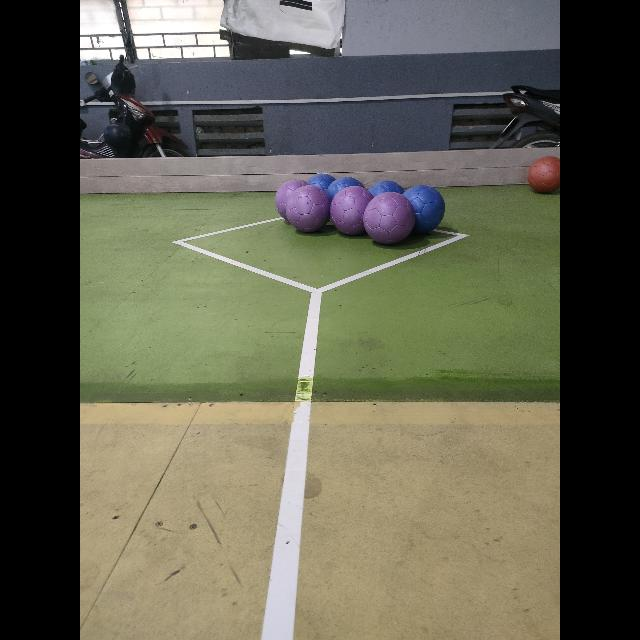B: (404, 185, 444, 233), (326, 177, 364, 201), (368, 180, 404, 196)
P: (364, 192, 414, 244), (286, 184, 330, 232), (329, 188, 376, 232)
R: (528, 156, 560, 192)
